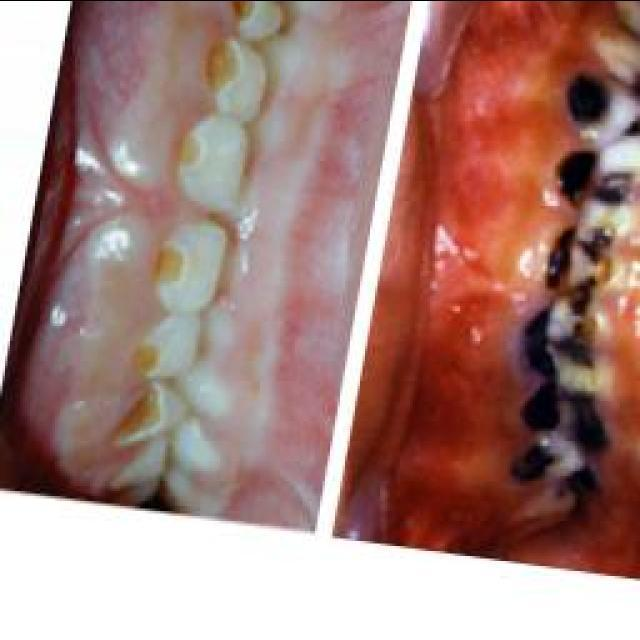caries: (474, 44, 630, 506)
